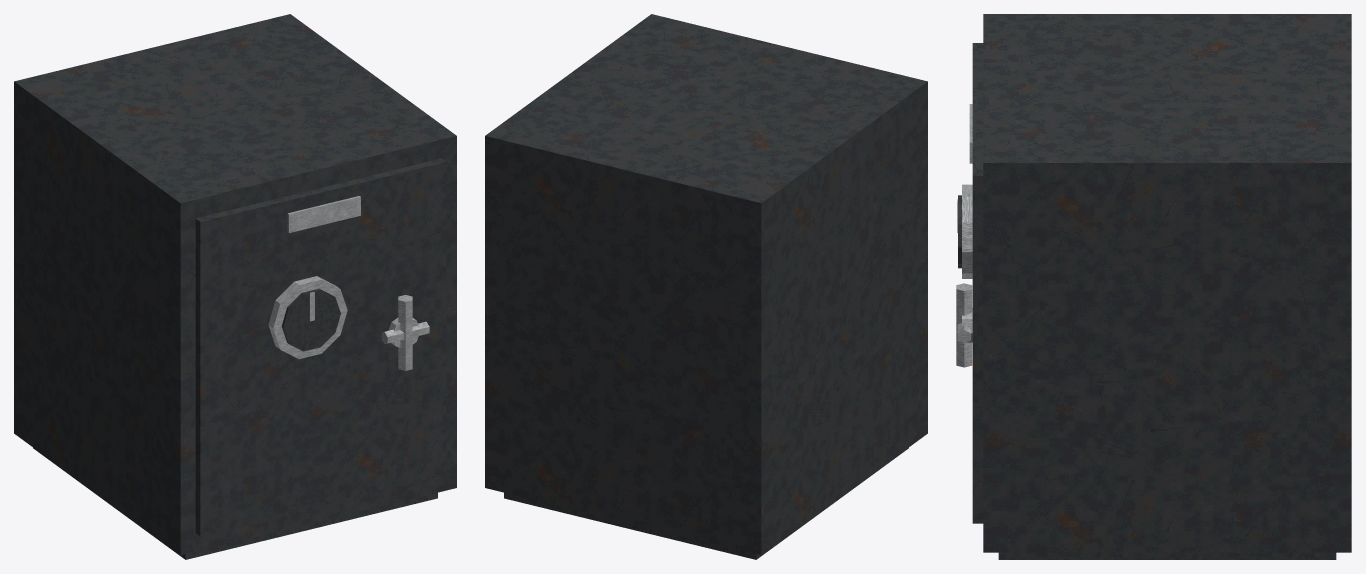
Rendered from safe.glb.
3 views of the same model, side by side, from view 1: azimuth 30°, elevation 25°; view 2: azimuth 150°, elevation 25°; view 3: azimuth 270°, elevation 25° (orthographic). The views are drawn at different scales.
Parts seen in each view (by area): view 1: safe, Door; view 2: safe; view 3: safe, Door.
Part boxes in pixels (left/top/right/bottom): safe: left=14, top=14, right=456, bottom=559; Door: left=195, top=158, right=446, bottom=536; safe: left=485, top=14, right=927, bottom=559; safe: left=983, top=14, right=1351, bottom=559; Door: left=956, top=43, right=983, bottom=523.
Bounding box in the file's own units: 0.46 × 0.58 × 0.5154.
Materials: 4 (4 with a texture image).
